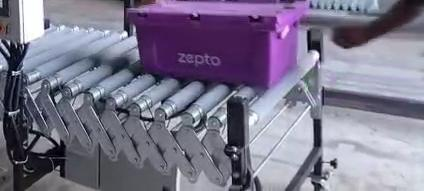box: (128, 0, 307, 87)
